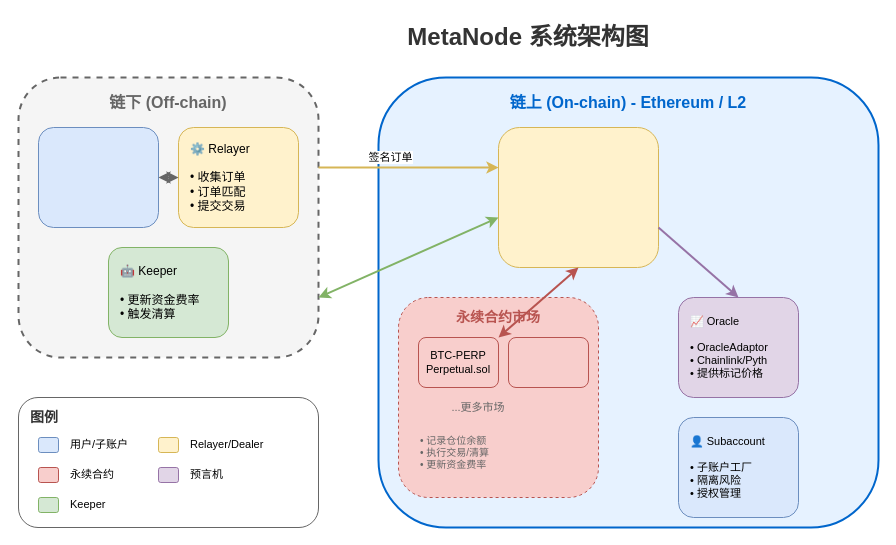
Some shapes in this 896 by 545 pixel diagram are drawn without their labels. Each missing label, with the box of its shape:
ETH-PERP Perpetual.sol: (508, 336, 588, 388)
👥 交易者 • 生成签名订单 • 管理仓位 • 查看余额: (38, 126, 158, 228)
📋 MetaNodeDealer 核心交易台合约 • 管理用户保证金 • 验证订单签名 • 计算风险参数 • 处理存取款: (498, 126, 658, 268)
